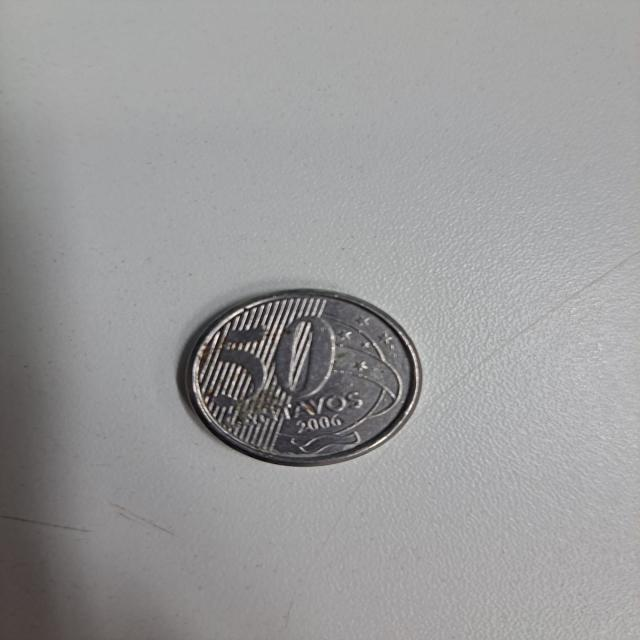50 cents: (176, 282, 428, 474)
